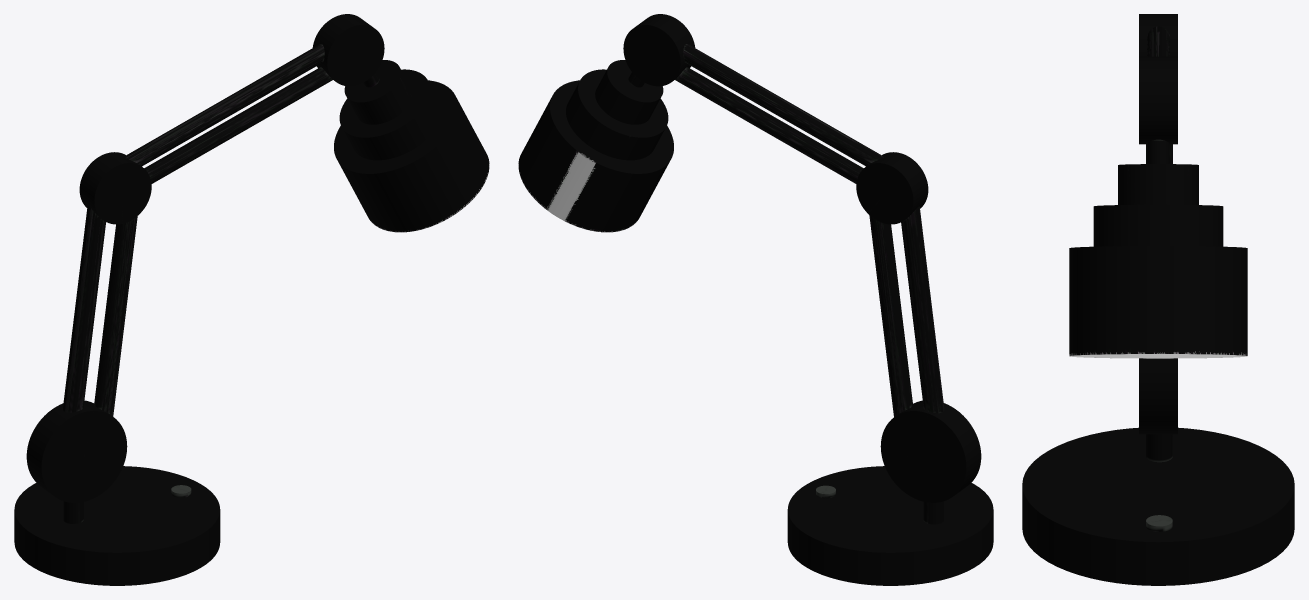
Rendered from lamp5.glb.
3 renders of one model, left to right at view 1: azimuth 30°, elevation 25°; view 2: azimuth 150°, elevation 25°; view 3: azimuth 270°, elevation 25°, orthographic. The views are drawn at different scales.
Parts seen in each view (by area): view 1: node_id141, node_id143; view 2: node_id141, node_id143, node_id145; view 3: node_id141, node_id143, node_id145.
Boxes of the visible parts, x1,y1,x2,y2 form: node_id141: [14, 14, 489, 585]; node_id143: [63, 44, 379, 523]; node_id141: [518, 14, 993, 585]; node_id143: [628, 44, 944, 524]; node_id145: [547, 152, 595, 220]; node_id141: [1022, 14, 1294, 585]; node_id143: [1146, 26, 1172, 531]; node_id145: [1069, 354, 1247, 358].
Size of the model in its own units: 0.512 by 0.505 by 0.2021.
Materials: 3 (3 with a texture image).
